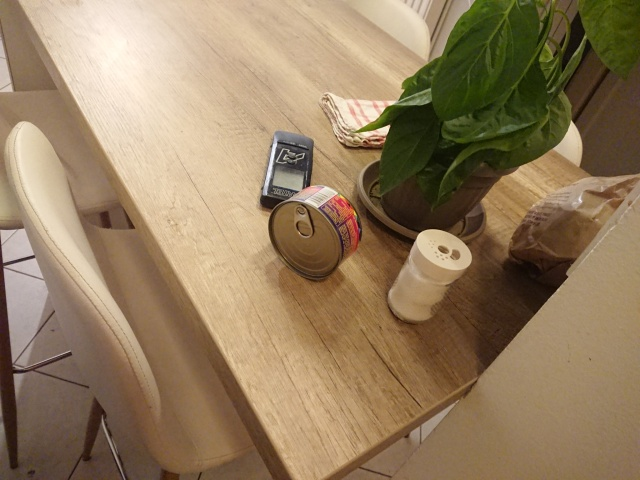Giana Tuna Salad Mexico 185g: (267, 181, 365, 284)
